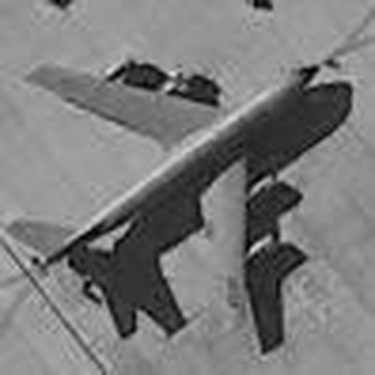airplane: (5, 6, 351, 355)
